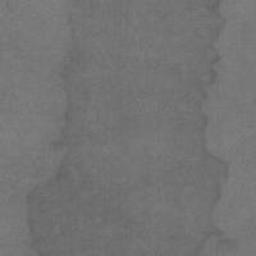Water spot: (27, 0, 232, 256)
